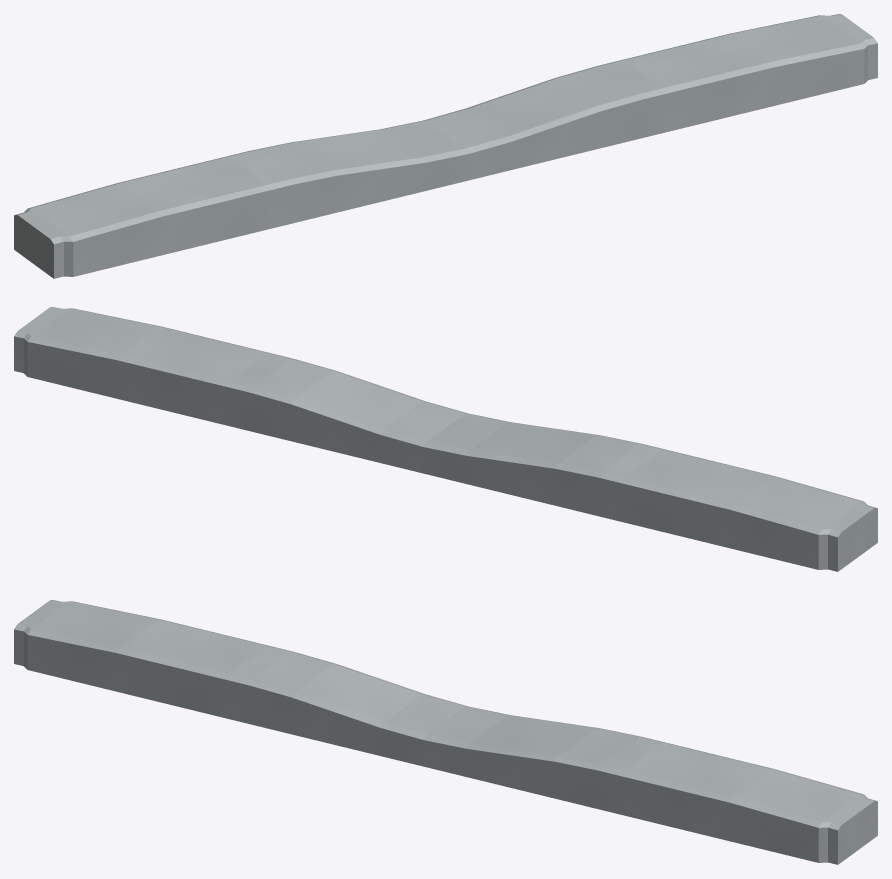
File: sleeper.obj
The picture shows the model from 3 angles, top to bottom: view 1: azimuth 30°, elevation 25°; view 2: azimuth 150°, elevation 25°; view 3: azimuth 330°, elevation 25°; orthographic projection.
Visible parts, largest first — view 1: sleeper; view 2: sleeper; view 3: sleeper.
Boxes of the visible parts, x1=… form: sleeper: x1=14, y1=14, x2=877, y2=278; sleeper: x1=14, y1=307, x2=877, y2=571; sleeper: x1=14, y1=600, x2=877, y2=864.
Bounding box in the file's own units: 2.5 × 0.12 × 0.24.
